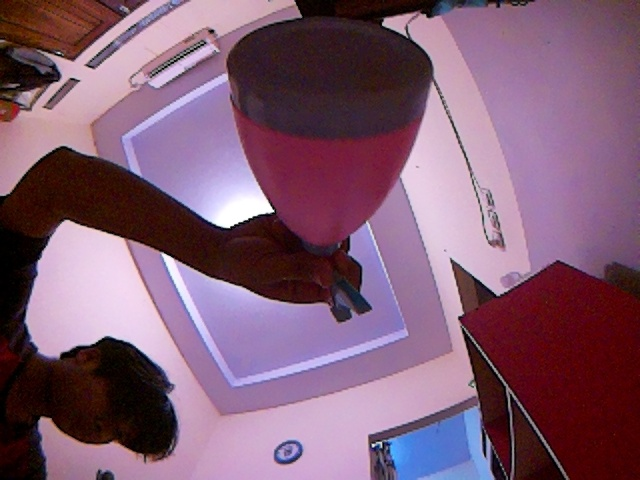korban: (221, 16, 442, 239)
